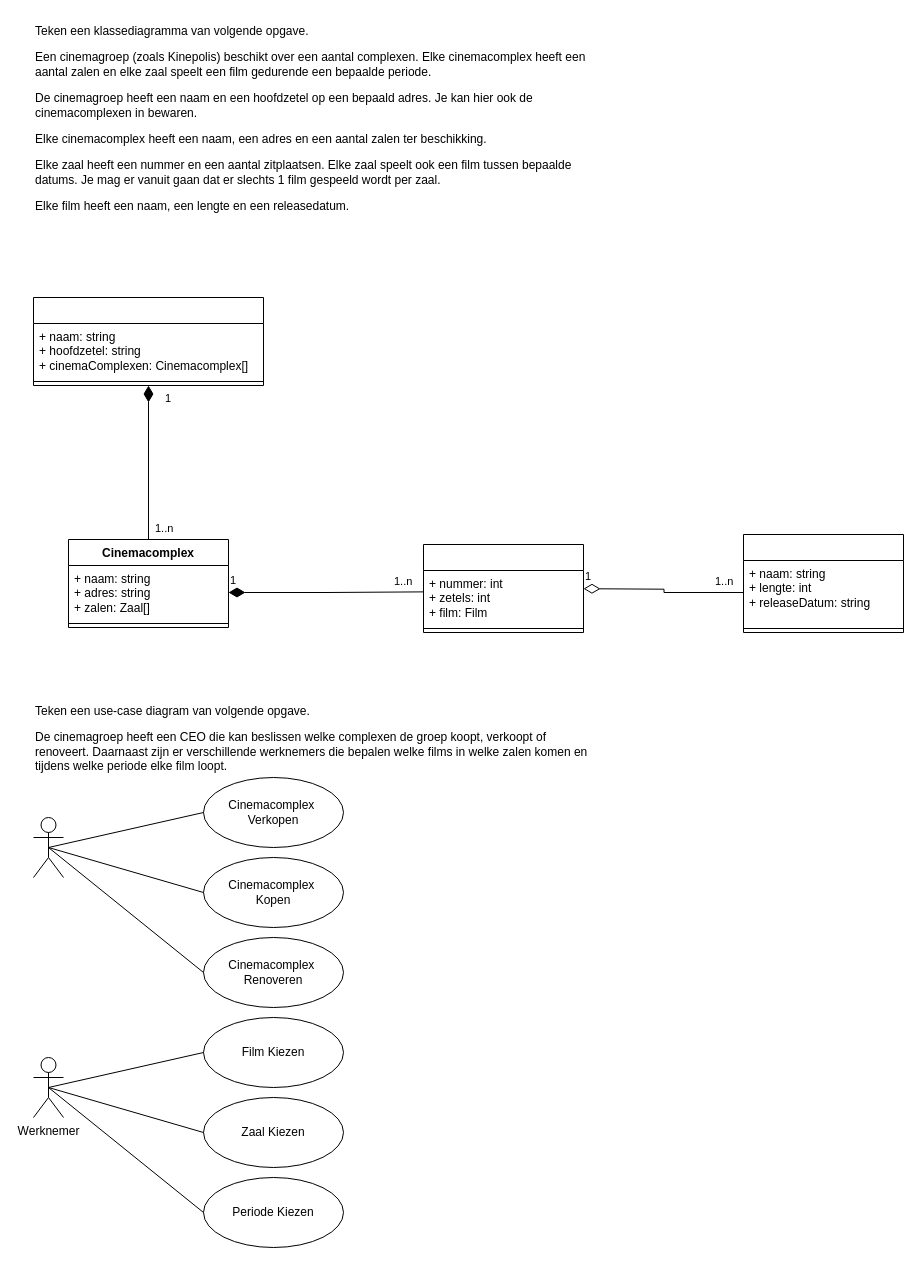
The diagram is 921 pixels wide and 1265 high, and some of its shapes have lost their labels. Here are the shapes that lost their labels. From the top down, the box of each, then its label:
(32, 296, 264, 386): CinemaGroep
(422, 544, 584, 632): Zaal
(742, 534, 904, 632): Film
(32, 816, 64, 878): CEO
